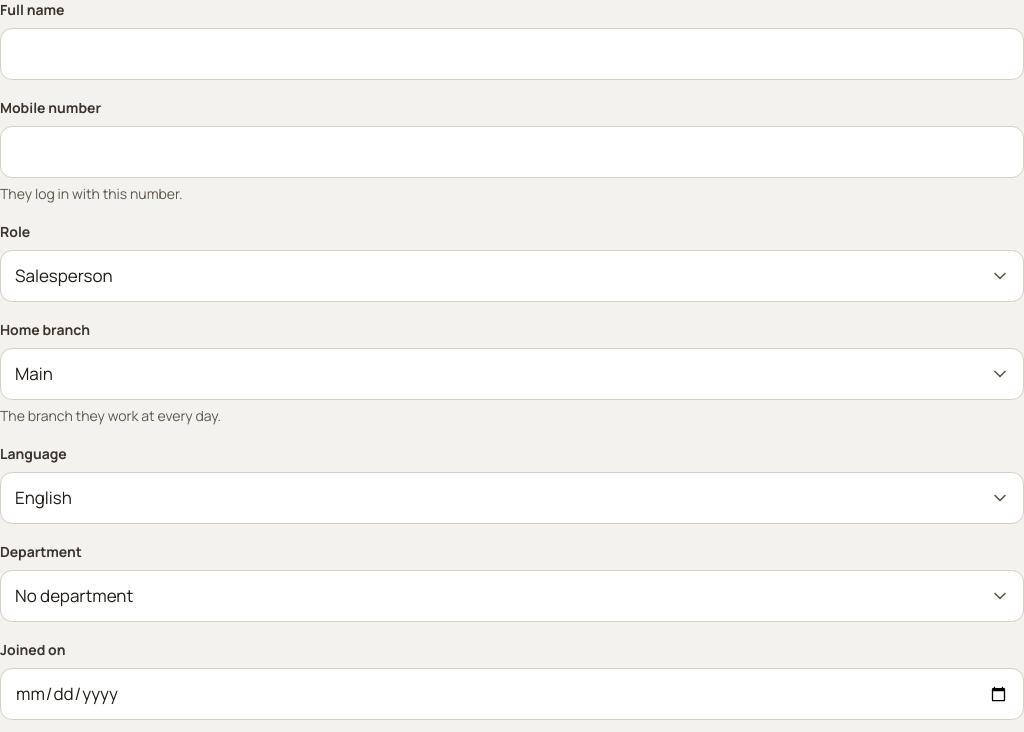
Test: StaffForm › names the person already using a mobile number
The width and height of the screenshot is (1024, 732).
Type "Asha Patel" into the field labelled "Full name" at (512, 54), box [0,28,1023,80]
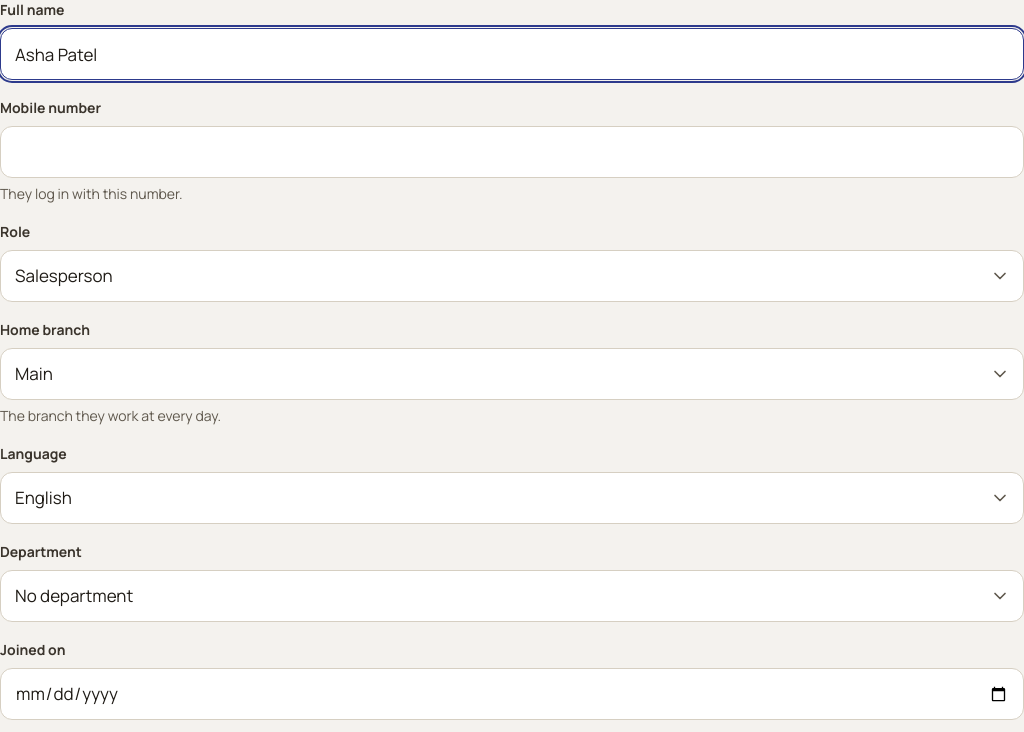
Type "98765 43210" into the field labelled "Mobile number" at (512, 152), box [0,126,1023,178]
(page scrolled)
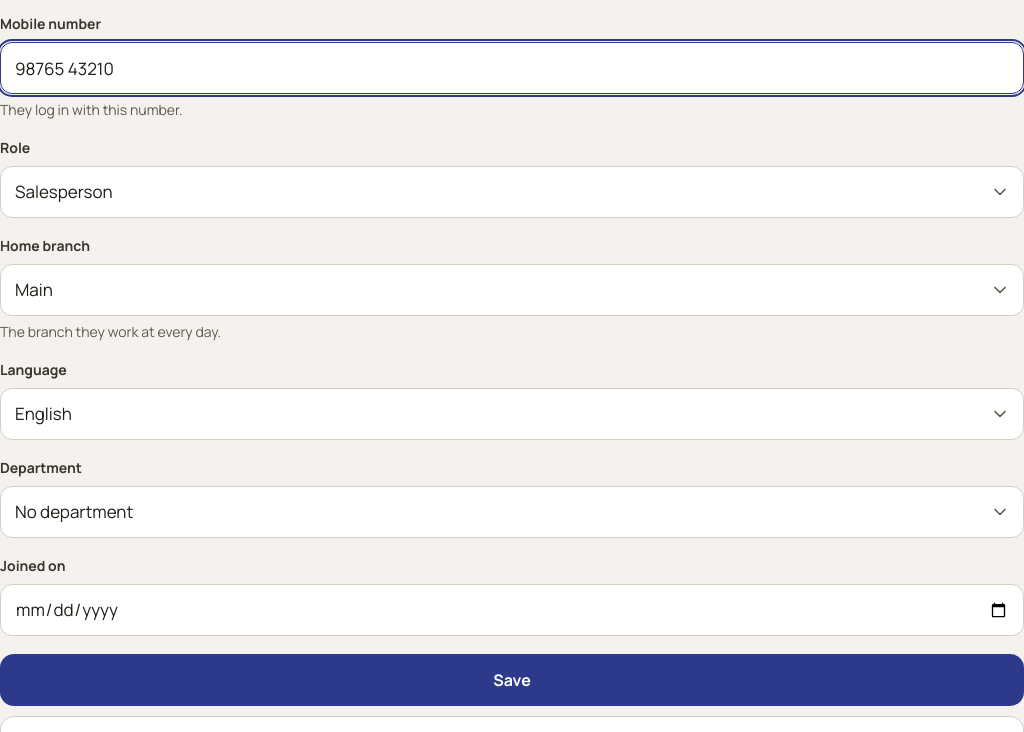
Click the button "Save" at (512, 680), box [0,654,1023,706]
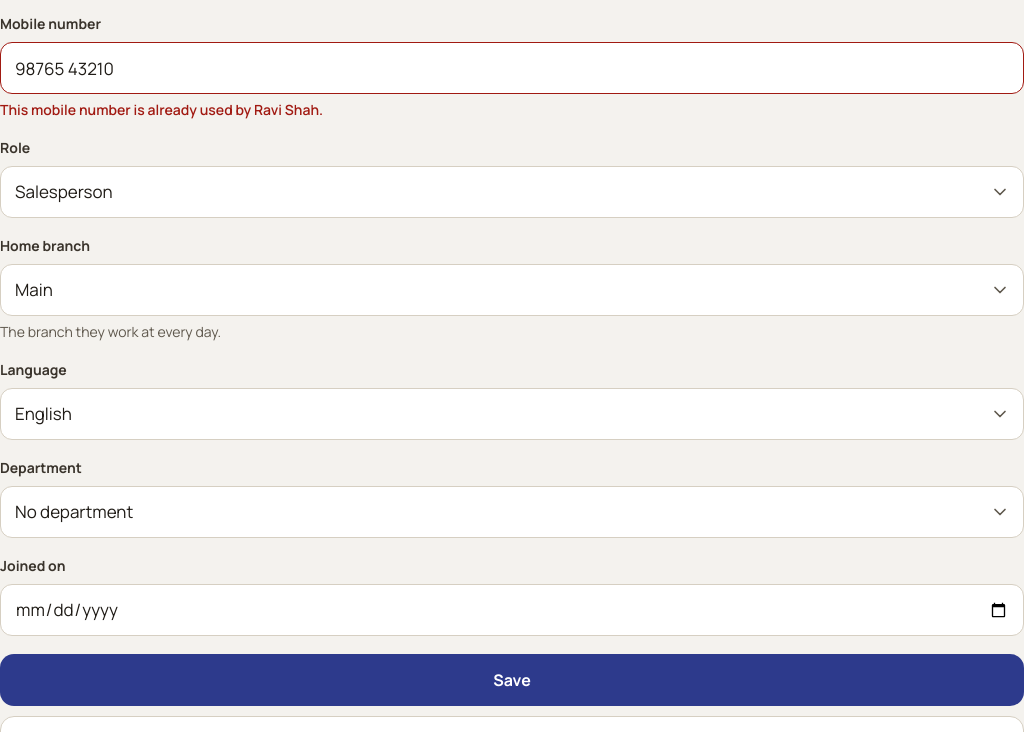
expect the text "This mobile number is already used by Ravi Shah." is shown: met, box [0,100,323,119]
